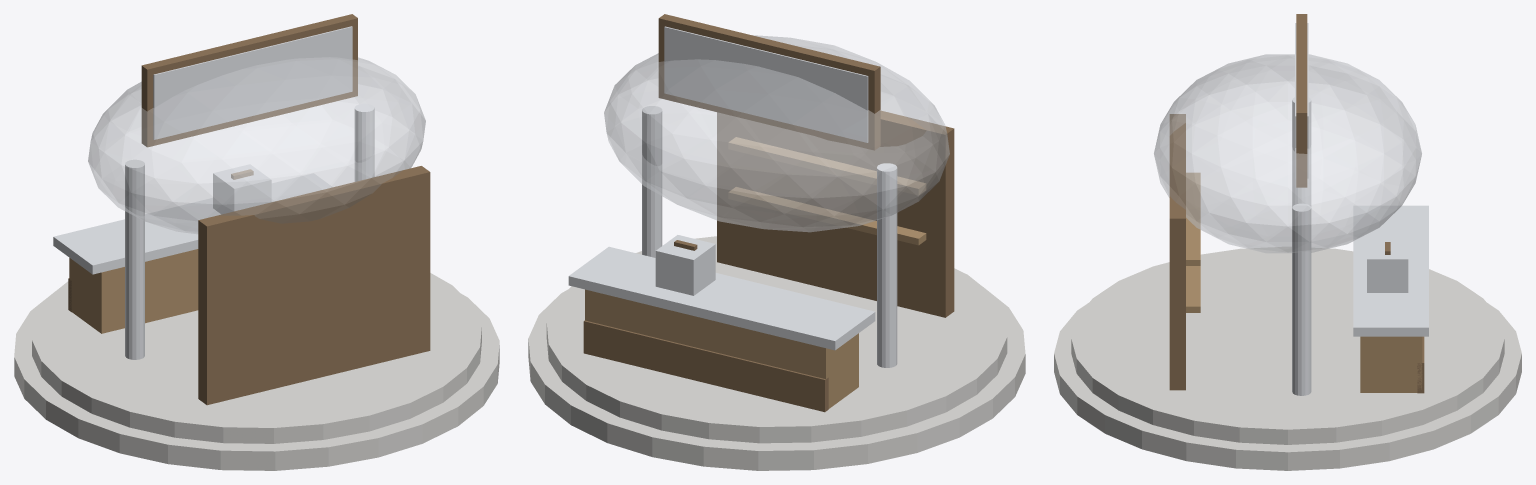
The model's file is booth_silver.fbx.
3 renders of one model, left to right at view 1: azimuth 30°, elevation 25°; view 2: azimuth 150°, elevation 25°; view 3: azimuth 270°, elevation 25°, orthographic. The views are drawn at different scales.
Visible parts, largest first — view 1: Canopy, Back_Wall, Base_Upper, Base_Lower, Sign_Board, Counter_Top, Counter_Body, Sign_Frame, Pillar_L, DonationBox, Pillar_R; view 2: Canopy, Base_Upper, Back_Wall, Base_Lower, Sign_Board, Counter_Top, Counter_Body, Counter_Skirt, Sign_Frame, Pillar_L, Pillar_R, DonationBox (+2 smaller); view 3: Base_Upper, Canopy, Base_Lower, Counter_Top, Back_Wall, Pillar_R, Counter_Body, DonationBox, Sign_Frame, Back_Shelf2, Pillar_L, Back_Shelf (+1 smaller).
Boxes of the visible parts, bbox=[...] form: Canopy: bbox=[88, 57, 425, 234]; Back_Wall: bbox=[198, 166, 430, 405]; Base_Upper: bbox=[32, 273, 481, 443]; Base_Lower: bbox=[14, 293, 499, 470]; Sign_Board: bbox=[153, 26, 352, 139]; Counter_Top: bbox=[53, 173, 332, 274]; Counter_Body: bbox=[69, 249, 198, 333]; Sign_Frame: bbox=[141, 14, 357, 147]; Pillar_L: bbox=[125, 159, 144, 359]; DonationBox: bbox=[213, 164, 271, 214]; Pillar_R: bbox=[354, 103, 374, 181]; Canopy: bbox=[604, 35, 949, 232]; Base_Upper: bbox=[546, 236, 1007, 443]; Back_Wall: bbox=[717, 110, 954, 317]; Base_Lower: bbox=[528, 287, 1025, 470]; Sign_Board: bbox=[664, 26, 868, 142]; Counter_Top: bbox=[568, 246, 875, 350]; Counter_Body: bbox=[585, 289, 858, 408]; Counter_Skirt: bbox=[583, 320, 828, 412]; Sign_Frame: bbox=[658, 14, 880, 150]; Pillar_L: bbox=[877, 163, 897, 367]; Pillar_R: bbox=[642, 106, 662, 257]; DonationBox: bbox=[655, 235, 715, 295]; Base_Upper: bbox=[1071, 247, 1504, 444]; Canopy: bbox=[1154, 54, 1421, 253]; Base_Lower: bbox=[1054, 303, 1521, 470]; Counter_Top: bbox=[1353, 205, 1428, 336]; Back_Wall: bbox=[1169, 114, 1185, 390]; Pillar_R: bbox=[1292, 203, 1311, 395]; Counter_Body: bbox=[1360, 336, 1422, 392]; DonationBox: bbox=[1367, 241, 1408, 292]; Sign_Frame: bbox=[1296, 14, 1307, 187]; Back_Shelf2: bbox=[1186, 173, 1200, 265]; Pillar_L: bbox=[1292, 97, 1311, 206]; Back_Shelf: bbox=[1186, 266, 1200, 312].
Bounding box in the file's own units: 6.8 × 4.95 × 6.8.
